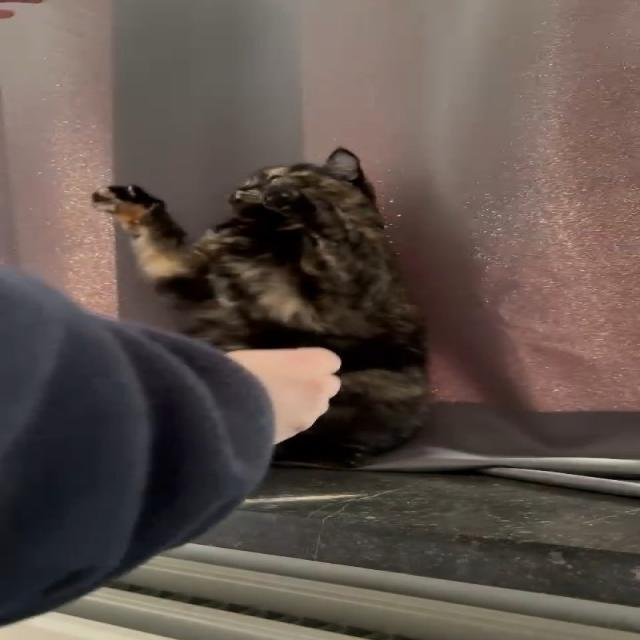authorized: (91, 146, 432, 468)
